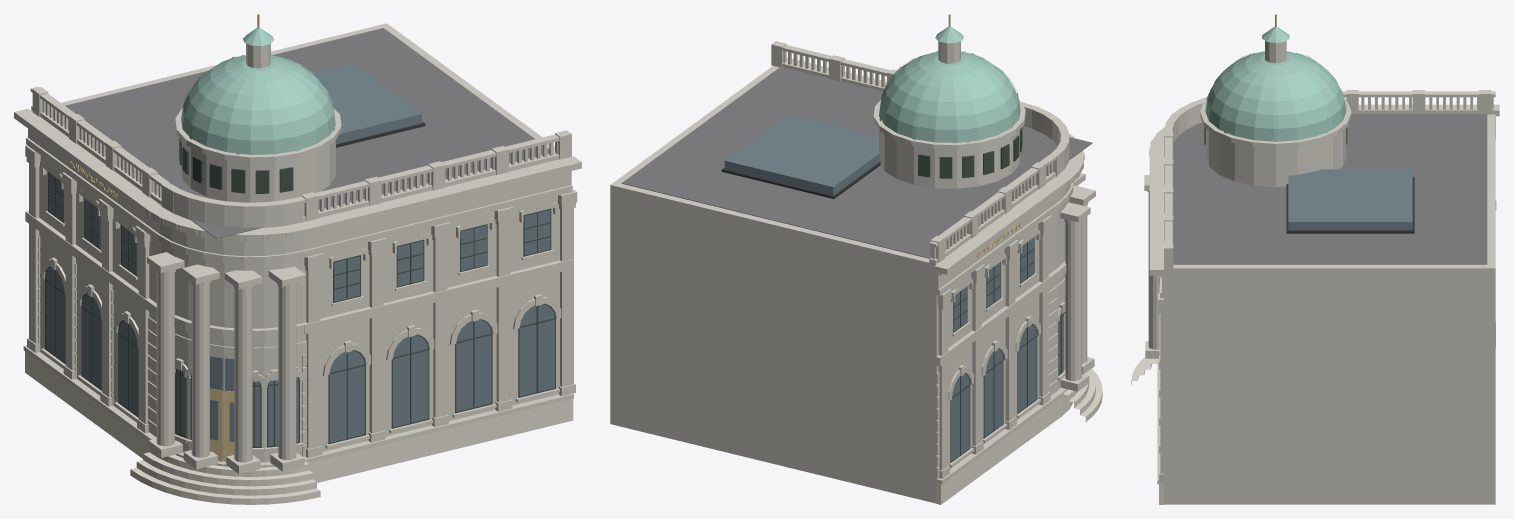
The model's file is corner_bank.glb.
The picture shows the model from 3 angles, left to right: view 1: azimuth 30°, elevation 25°; view 2: azimuth 150°, elevation 25°; view 3: azimuth 270°, elevation 25°; orthographic projection. The views are drawn at different scales.
Parts seen in each view (by area): view 1: corner_bank; view 2: corner_bank; view 3: corner_bank.
Part boxes in pixels (box(x1,y1,x2,y2)): corner_bank: box(14, 14, 581, 504); corner_bank: box(610, 14, 1102, 504); corner_bank: box(1131, 14, 1499, 504).
Size of the model in its own units: 19.78 by 20.24 by 17.78.
